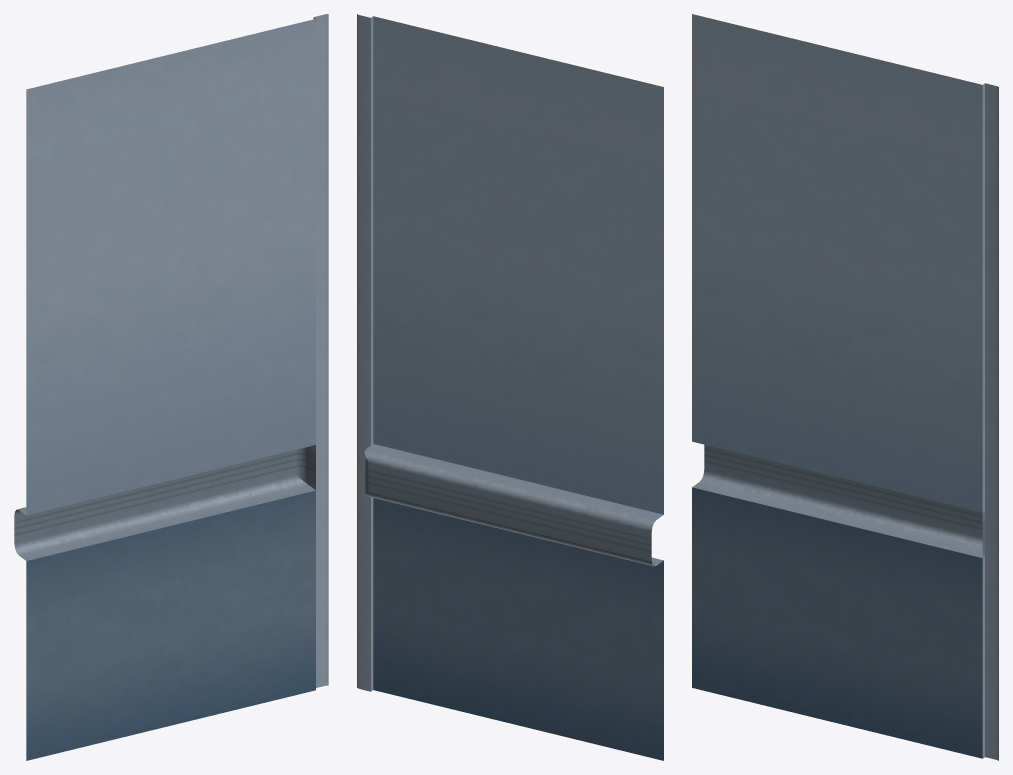
File: Lvl2_Wall_Corner_Out_1.fbx
The picture shows the model from 3 angles, left to right: view 1: azimuth 30°, elevation 25°; view 2: azimuth 150°, elevation 25°; view 3: azimuth 330°, elevation 25°; orthographic projection.
Visible parts, largest first — view 1: Lvl2_Wall_Corner_Out_1; view 2: Lvl2_Wall_Corner_Out_1; view 3: Lvl2_Wall_Corner_Out_1.
Part boxes in pixels (<box>): Lvl2_Wall_Corner_Out_1: <box>14,14,328,760</box>; Lvl2_Wall_Corner_Out_1: <box>357,14,663,760</box>; Lvl2_Wall_Corner_Out_1: <box>692,14,998,760</box>.
Size of the model in its own units: 189 by 400 by 13.01.
1 material, 1 textured.
